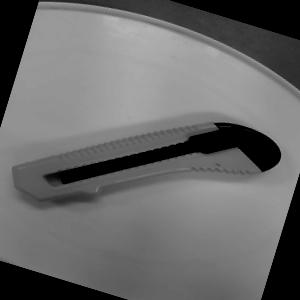estilete: (3, 63, 288, 266)
